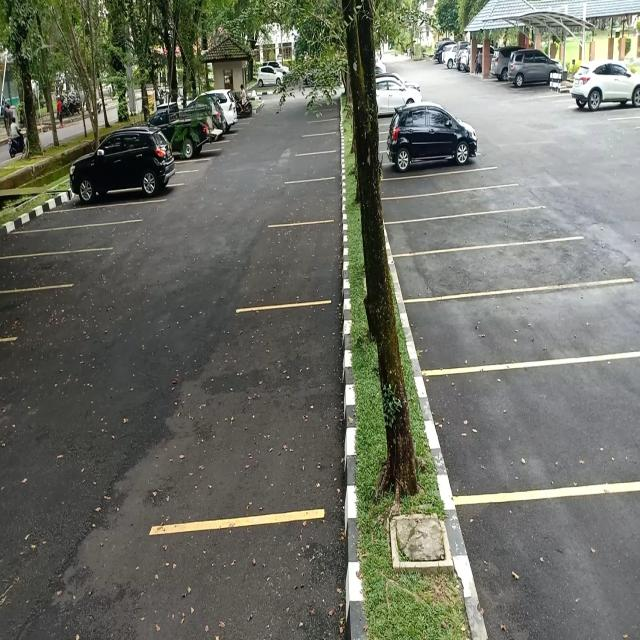empty: (172, 305, 342, 519), (447, 364, 640, 496), (415, 288, 636, 371), (400, 247, 570, 296), (256, 220, 342, 305), (391, 215, 534, 250), (387, 190, 523, 220), (10, 227, 125, 254), (0, 252, 75, 290), (40, 207, 151, 230), (284, 179, 339, 225), (294, 152, 339, 183)
occupied: (66, 153, 176, 208), (382, 136, 478, 178), (566, 83, 638, 111)
